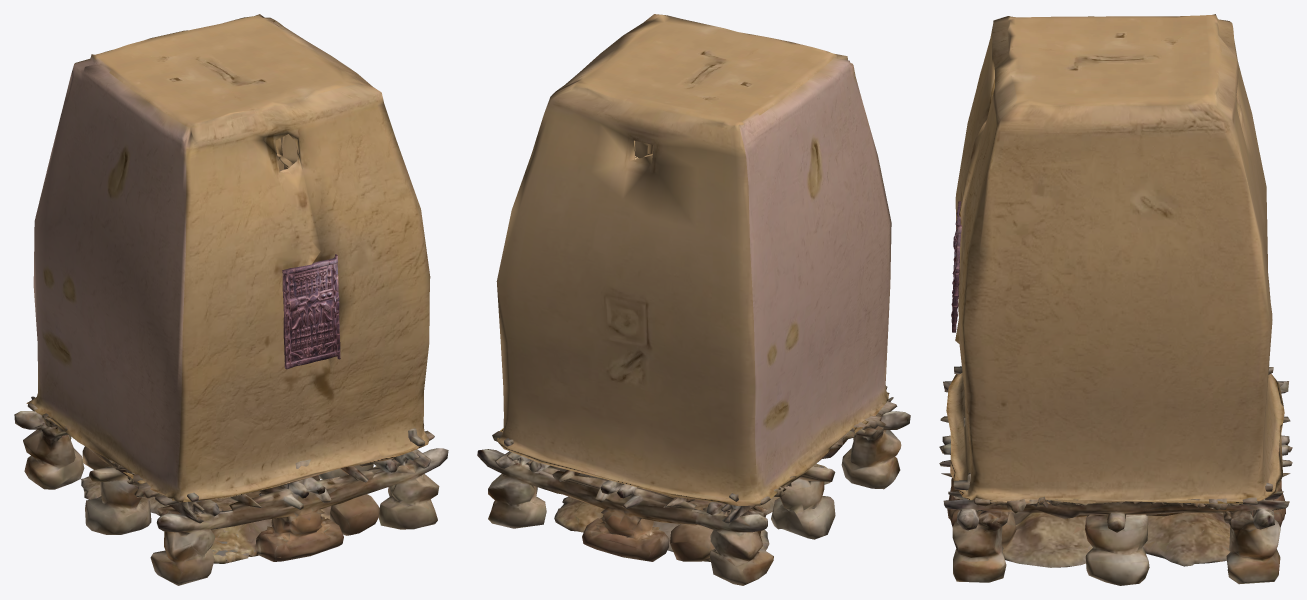
File: 3_murs.glb
3 renders of one model, left to right at view 1: azimuth 30°, elevation 25°; view 2: azimuth 150°, elevation 25°; view 3: azimuth 270°, elevation 25°, orthographic. The views are drawn at different scales.
Parts seen in each view (by area): view 1: Wall, rock, Window; view 2: Wall, rock; view 3: Wall, rock, Window.
Part boxes in pixels (bbox=[...]): Wall: bbox=[26, 14, 430, 502]; rock: bbox=[14, 396, 448, 585]; Window: bbox=[282, 254, 340, 369]; Wall: bbox=[496, 14, 891, 506]; rock: bbox=[477, 386, 910, 585]; Wall: bbox=[946, 14, 1284, 504]; rock: bbox=[939, 366, 1292, 585]; Window: bbox=[951, 201, 961, 332].
Size of the model in its own units: 0.9517 by 1.36 by 0.9559.
3 materials, 3 textured.
